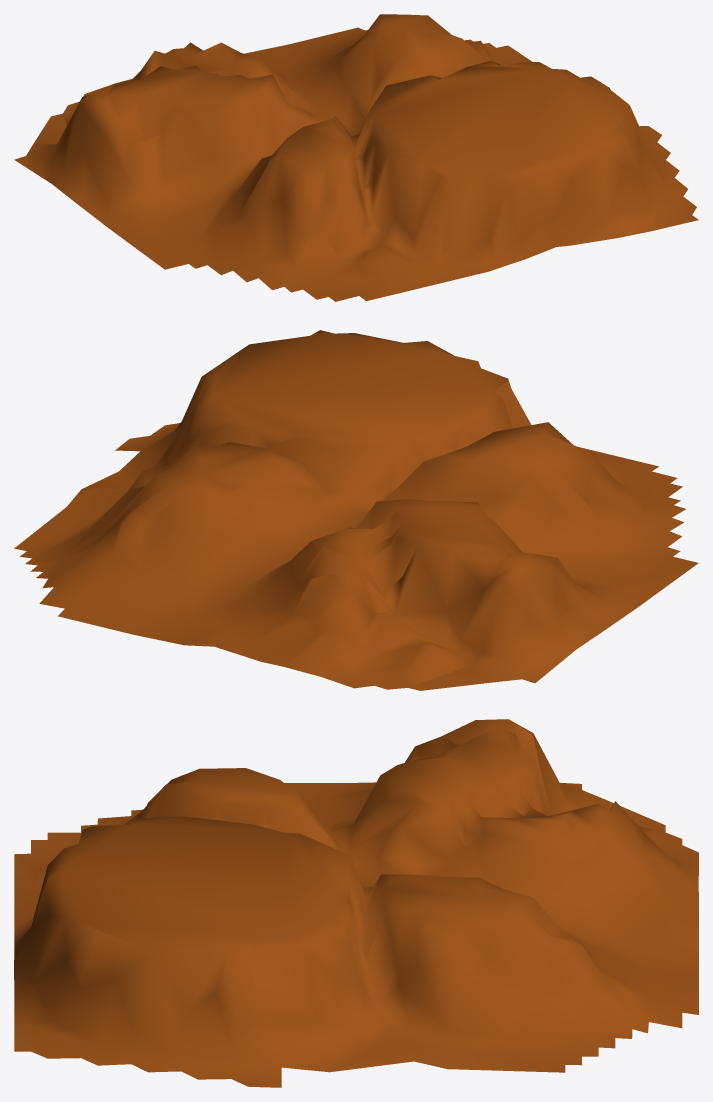
3 views of the same model, one above another, from view 1: azimuth 30°, elevation 25°; view 2: azimuth 150°, elevation 25°; view 3: azimuth 270°, elevation 25° (orthographic). The views are drawn at different scales.
Visible parts, largest first — view 1: Landscape; view 2: Landscape; view 3: Landscape.
Part boxes in pixels (x1,y1,x2,y2): Landscape: [14, 14, 698, 301]; Landscape: [14, 330, 698, 690]; Landscape: [14, 719, 698, 1087].
Size of the model in its own units: 176 by 25.51 by 167.
